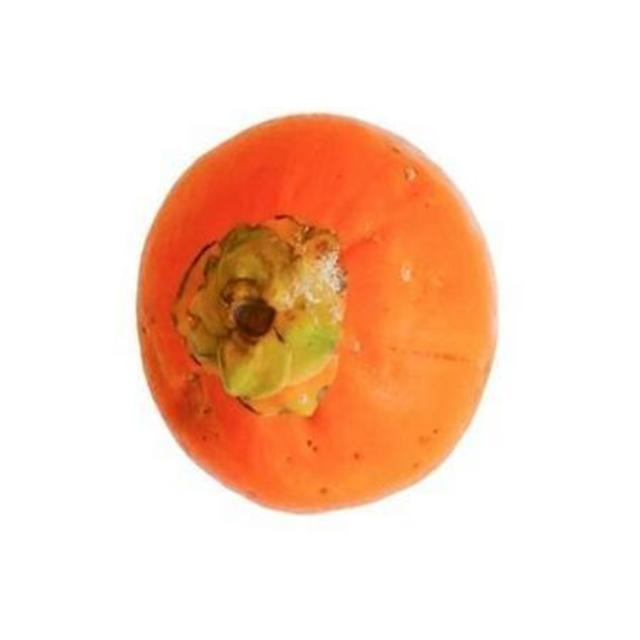good: (135, 113, 502, 517)
